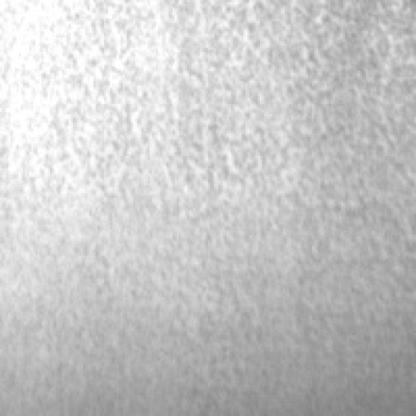pitted_surface: (0, 0, 411, 212)
